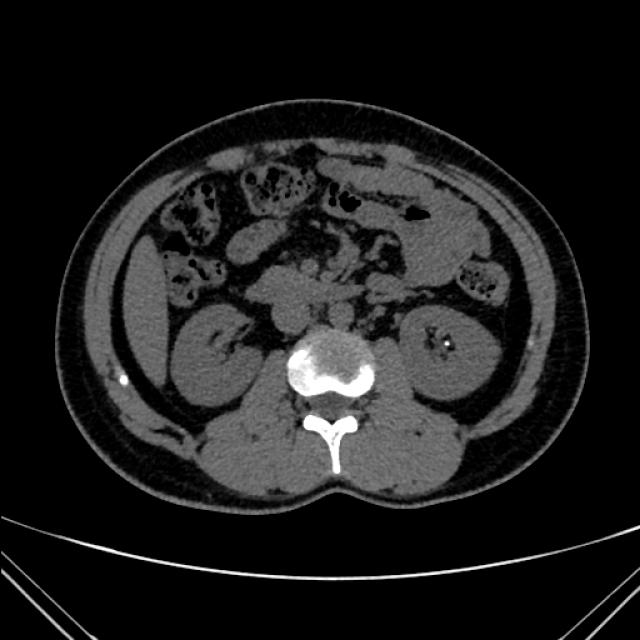kidneystone: (441, 339, 456, 351)
